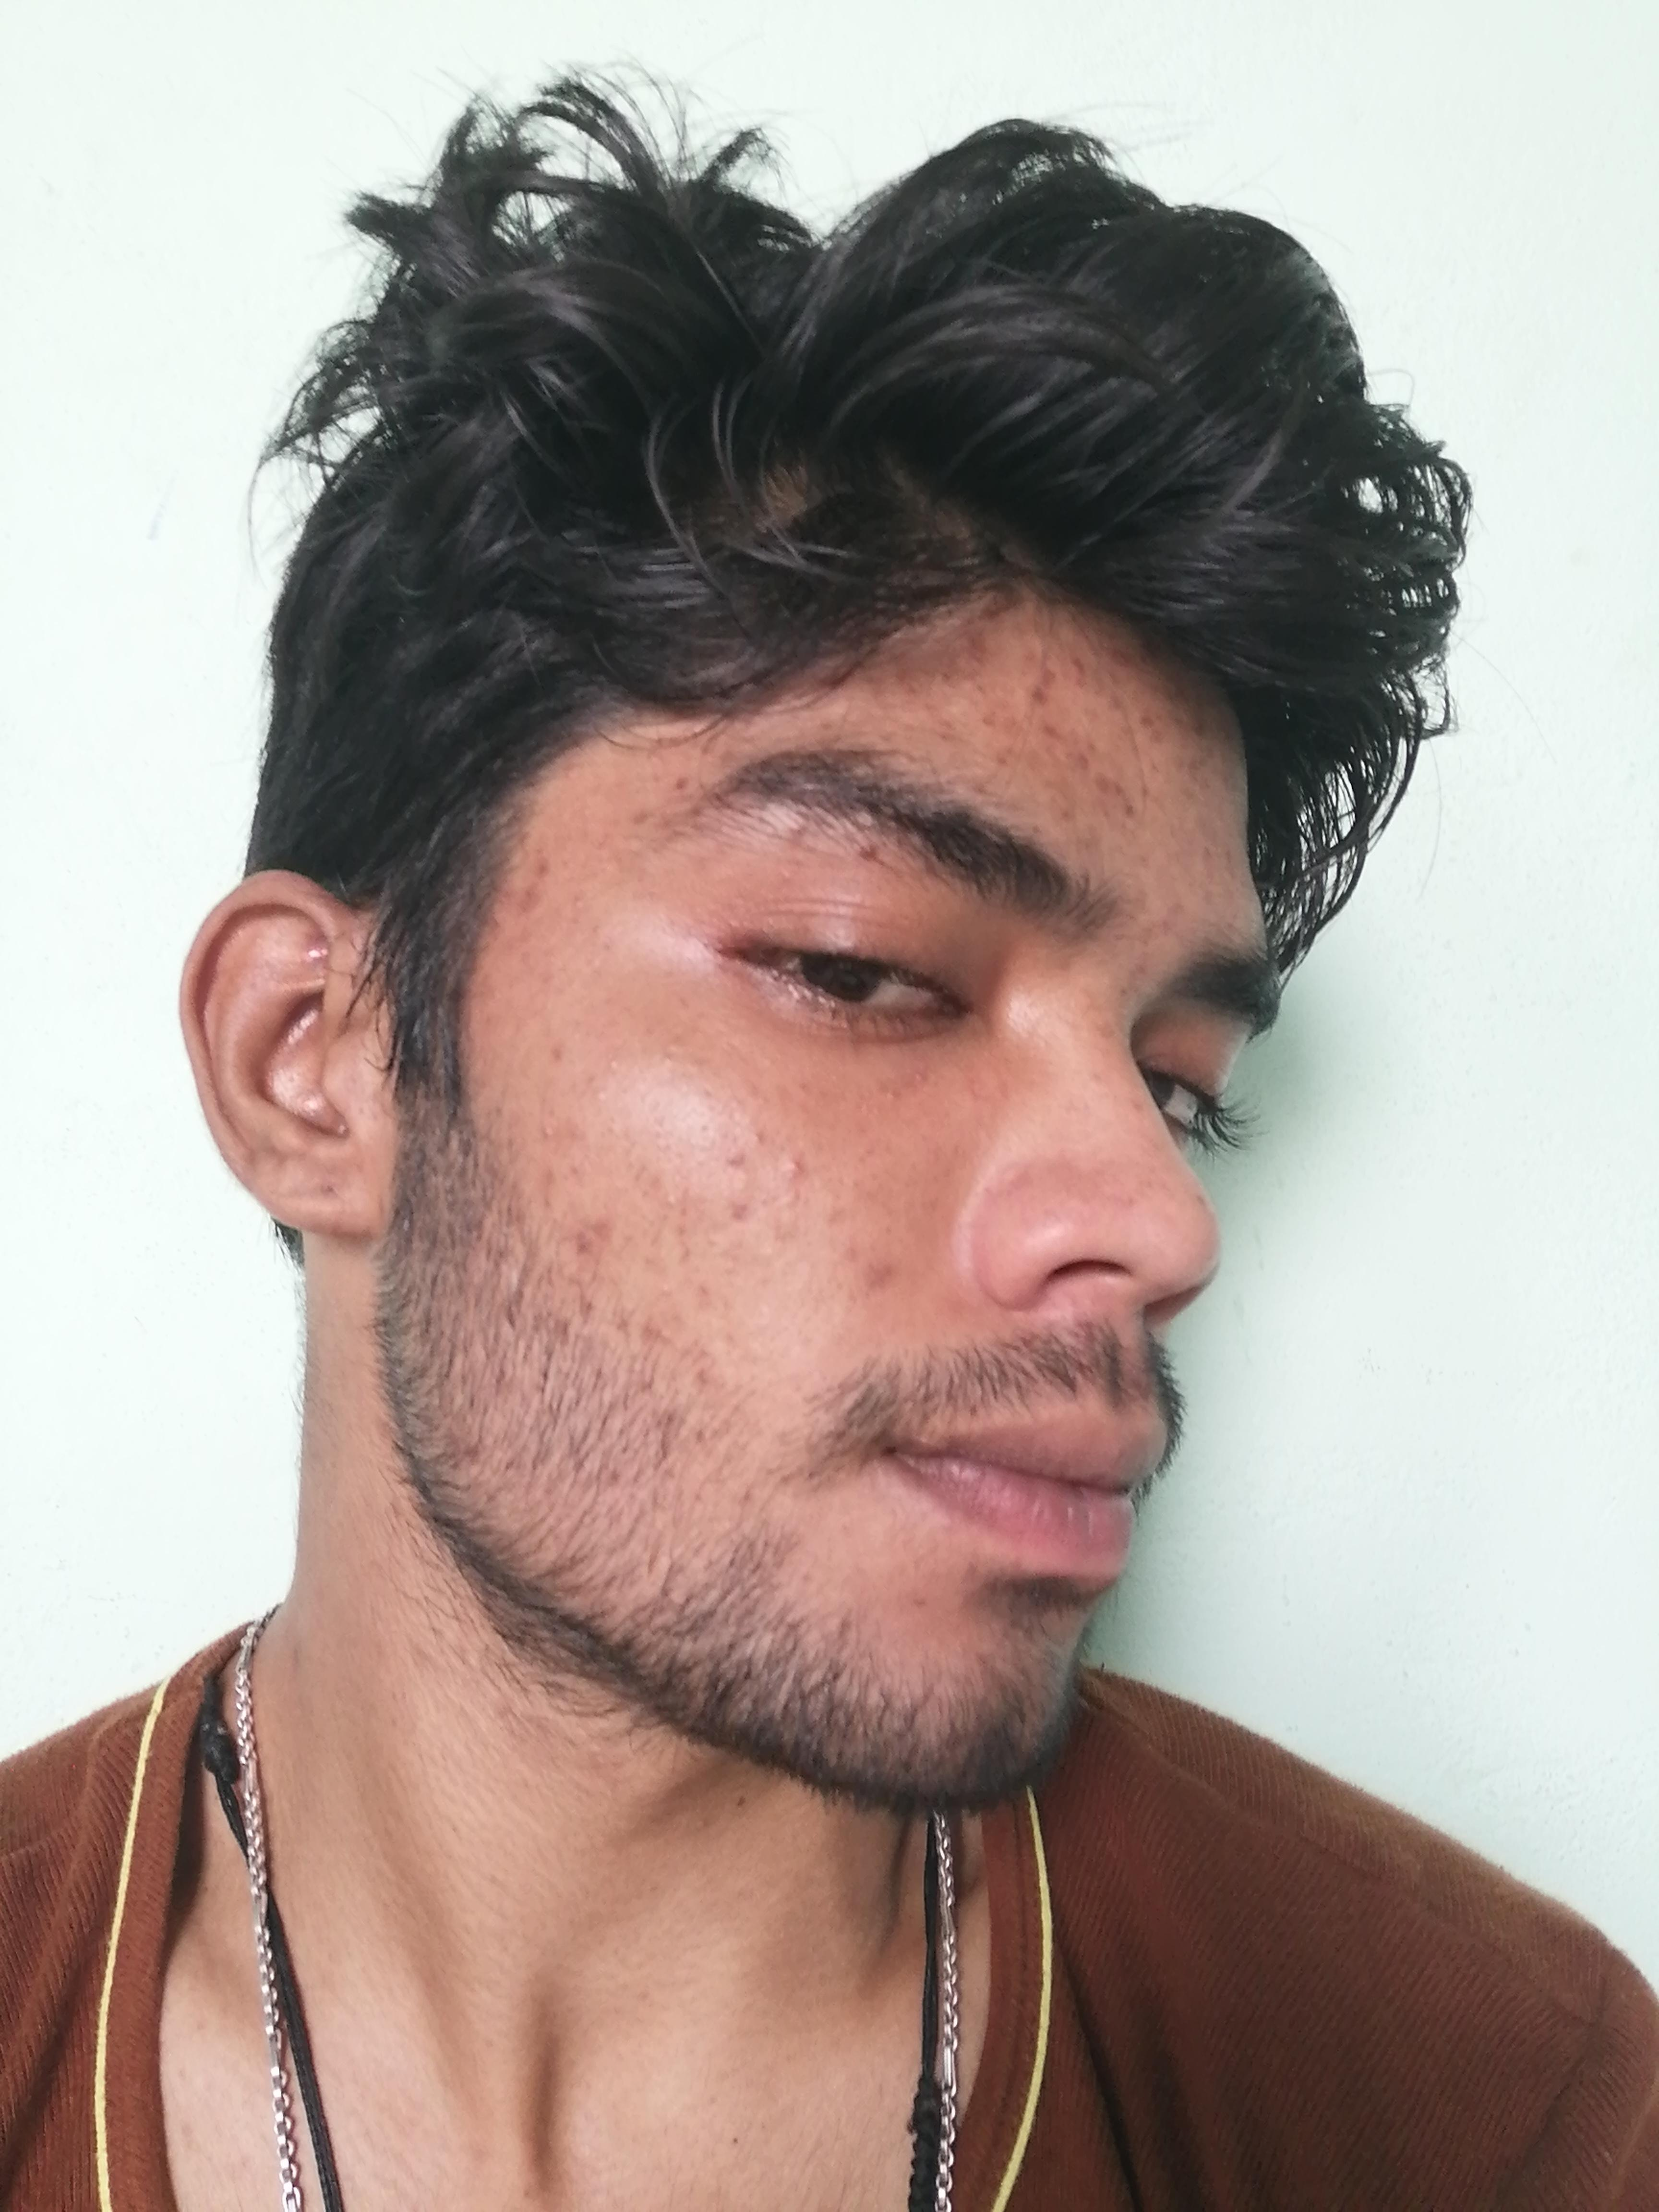Acne: (631, 1167, 701, 1231), (1082, 737, 1134, 801), (653, 1278, 721, 1324), (518, 855, 565, 918), (1026, 664, 1084, 709), (556, 1209, 615, 1252), (856, 1245, 897, 1301), (1169, 707, 1215, 754), (537, 1038, 579, 1082), (1103, 636, 1147, 678), (976, 697, 1019, 733), (537, 1165, 570, 1212), (906, 1573, 939, 1616), (720, 1191, 760, 1226), (774, 1148, 810, 1179), (746, 1111, 774, 1148), (533, 1123, 570, 1146), (720, 1146, 751, 1170), (666, 772, 695, 796)
Englarged-Pores: (833, 1127, 951, 1256)
